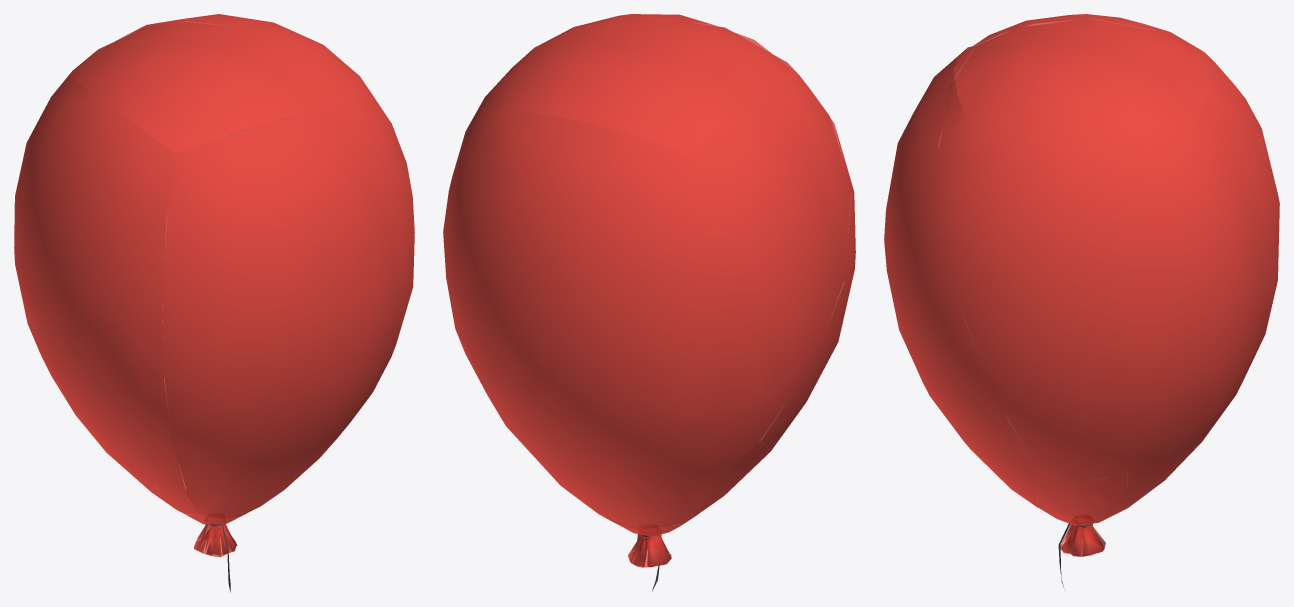
Rendered from baloon.glb.
3 renders of one model, left to right at view 1: azimuth 30°, elevation 25°; view 2: azimuth 150°, elevation 25°; view 3: azimuth 270°, elevation 25°, orthographic. The views are drawn at different scales.
Parts seen in each view (by area): view 1: baloon; view 2: baloon; view 3: baloon.
Part boxes in pixels (x1,y1,x2,y2): baloon: (14,14,414,592); baloon: (443,14,855,591); baloon: (884,14,1279,588).
Size of the model in its own units: 0.33 by 0.5109 by 0.33.
